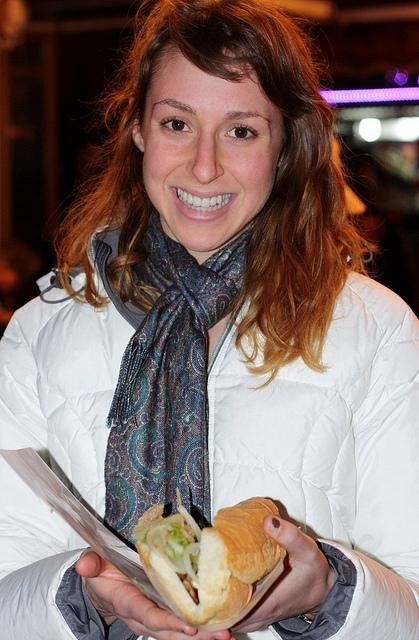lettuce: (168, 522, 190, 546)
onion: (177, 504, 202, 542), (146, 524, 173, 556), (158, 546, 188, 574), (183, 542, 200, 584), (167, 534, 183, 555), (157, 528, 165, 540), (192, 547, 199, 556)
